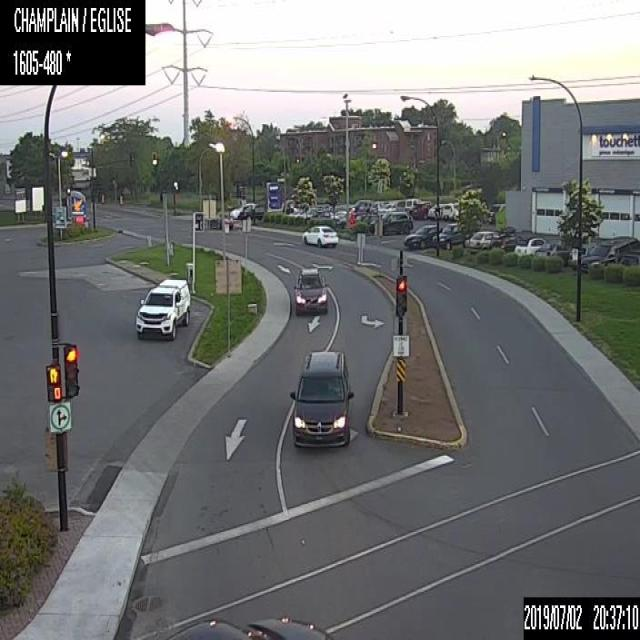vehicle: (290, 346, 355, 446), (167, 614, 326, 638), (134, 278, 190, 339), (580, 234, 639, 271), (294, 267, 327, 313), (432, 222, 472, 249), (403, 223, 442, 249), (369, 211, 412, 234), (301, 222, 338, 246), (534, 242, 572, 264), (490, 226, 525, 248), (568, 241, 594, 267), (464, 230, 497, 248), (427, 201, 458, 220), (514, 236, 544, 254), (229, 200, 256, 219), (238, 203, 264, 220), (408, 200, 430, 219), (486, 202, 505, 222), (343, 213, 365, 229), (396, 197, 421, 211), (332, 210, 347, 227), (618, 252, 639, 264), (352, 198, 371, 211), (377, 202, 396, 215), (370, 200, 388, 211), (362, 213, 376, 223), (320, 209, 332, 217)
